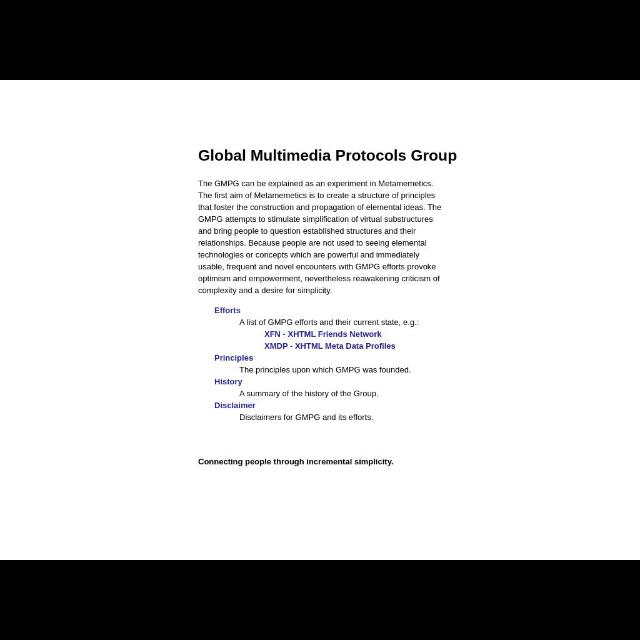text: (197, 180, 441, 296), (198, 148, 457, 164), (198, 458, 394, 466), (239, 319, 419, 327), (239, 366, 411, 374), (240, 391, 378, 399), (264, 341, 396, 349), (264, 331, 382, 339), (239, 414, 373, 421), (214, 354, 253, 364), (214, 402, 256, 410), (214, 378, 242, 387), (213, 307, 240, 315)
